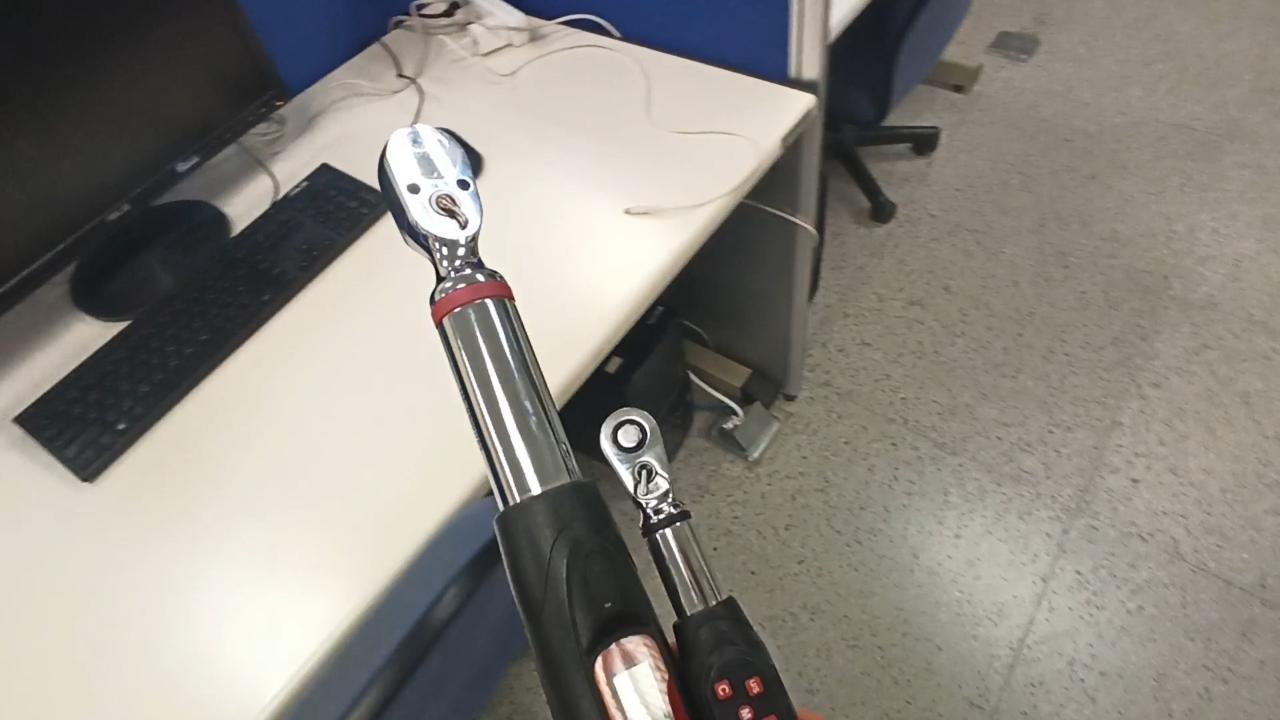Tool: (376, 129, 516, 291), (598, 409, 686, 523)
